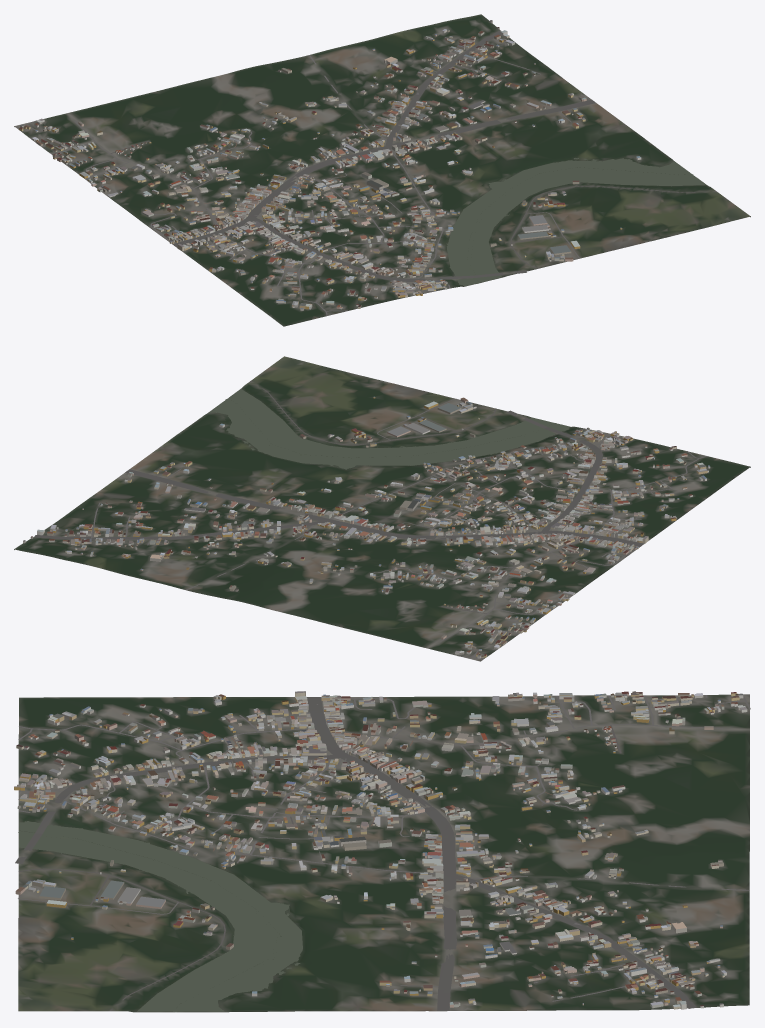
3 views of the same model, one above another, from view 1: azimuth 30°, elevation 25°; view 2: azimuth 150°, elevation 25°; view 3: azimuth 270°, elevation 25° (orthographic). The views are drawn at different scales.
Parts seen in each view (by area): view 1: ground, buildings, water, roads; view 2: ground, buildings, water, roads; view 3: ground, buildings, water, roads.
Part boxes in pixels (x1=…): ground: x1=14, y1=14, x2=750, y2=326; buildings: x1=19, y1=20, x2=641, y2=310; water: x1=446, y1=158, x2=706, y2=286; roads: x1=17, y1=30, x2=716, y2=315; ground: x1=14, y1=356, x2=750, y2=661; buildings: x1=23, y1=396, x2=710, y2=658; water: x1=209, y1=389, x2=569, y2=469; roads: x1=34, y1=381, x2=707, y2=659; ground: x1=18, y1=694, x2=749, y2=1012; buildings: x1=14, y1=691, x2=747, y2=1009; water: x1=18, y1=821, x2=302, y2=1012; roads: x1=15, y1=694, x2=750, y2=1011.
Size of the model in its own units: 1411 by 30.33 by 1412.
